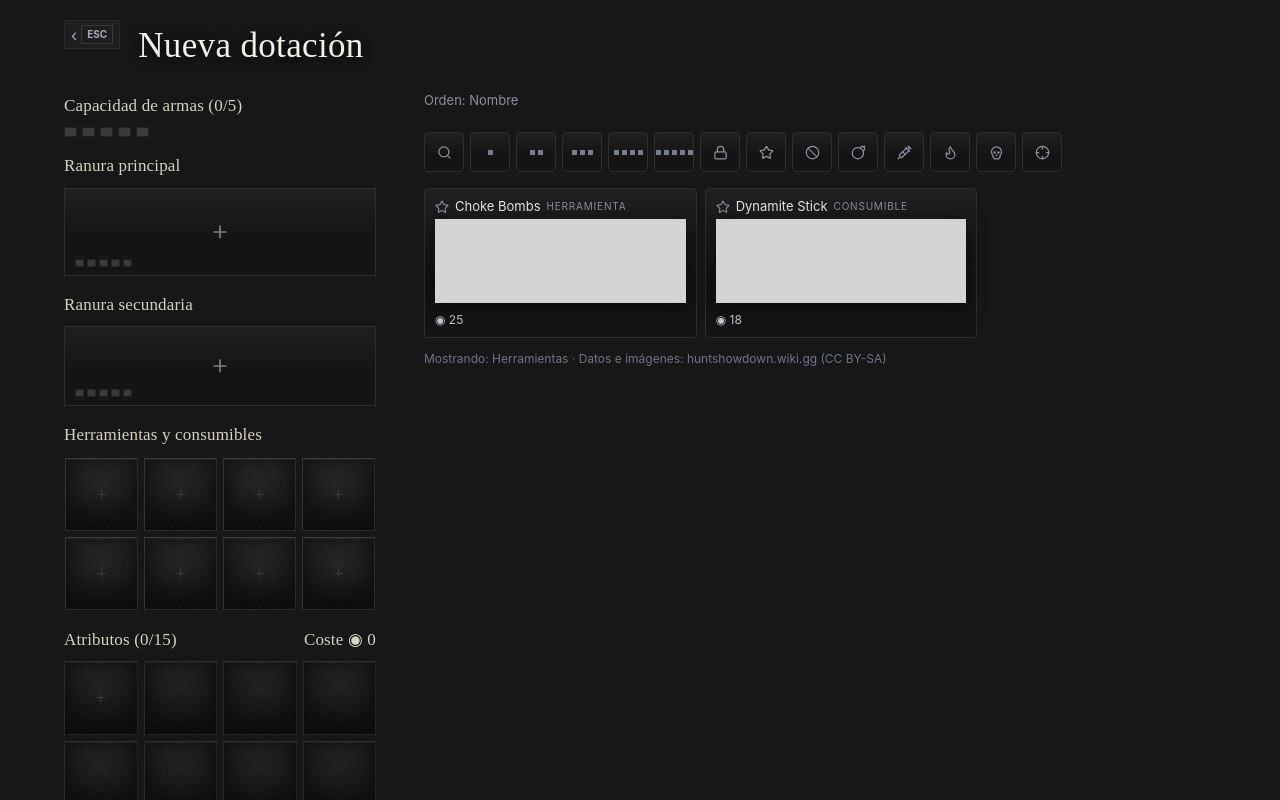
Test: DotacionEditor con herramientas › asigna el item al slot herramienta elegido y suma el coste
expect the text "Dynamite Stick" is shown: met, box [736,197,828,216]
Click the button named "Herramienta 1" at (102, 494), box [65,458,138,530]
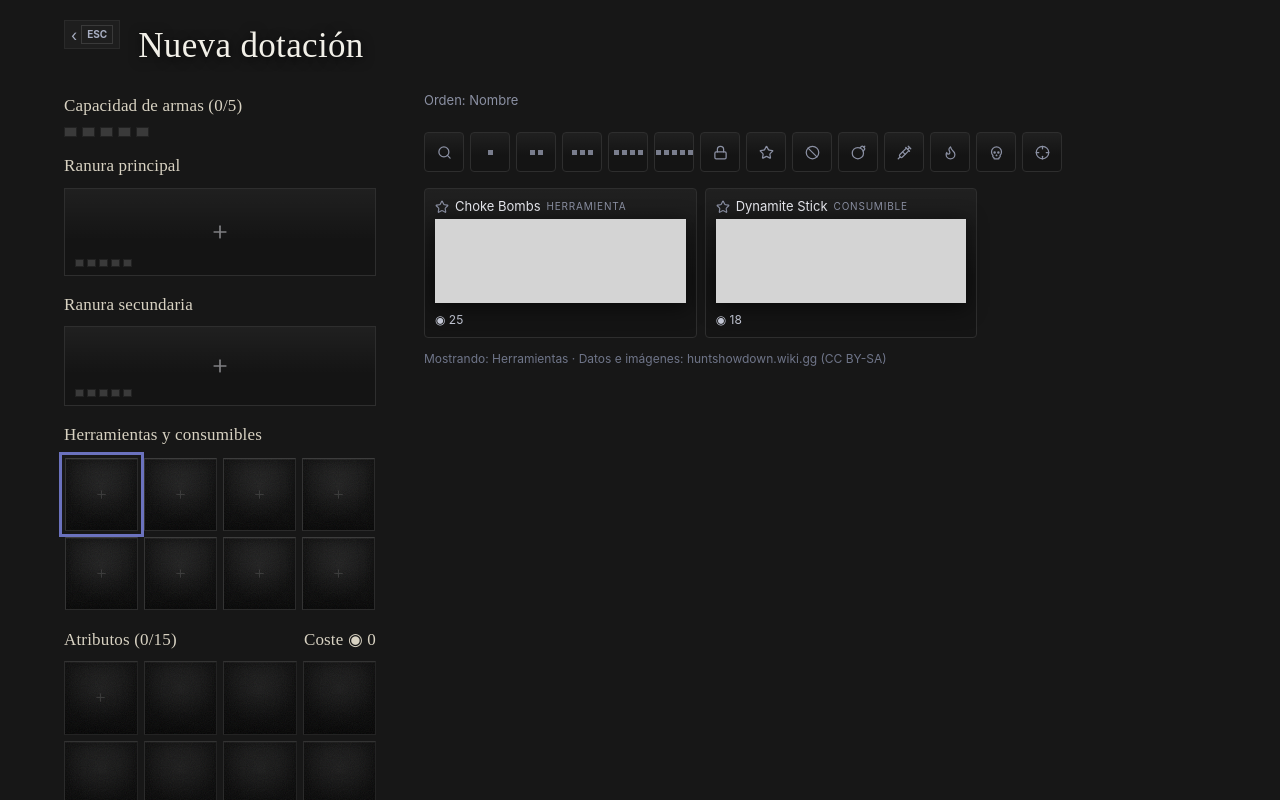
Click the button with aria-label "dynamite stick, ◉ 18" at (841, 263), box [705,188,977,338]
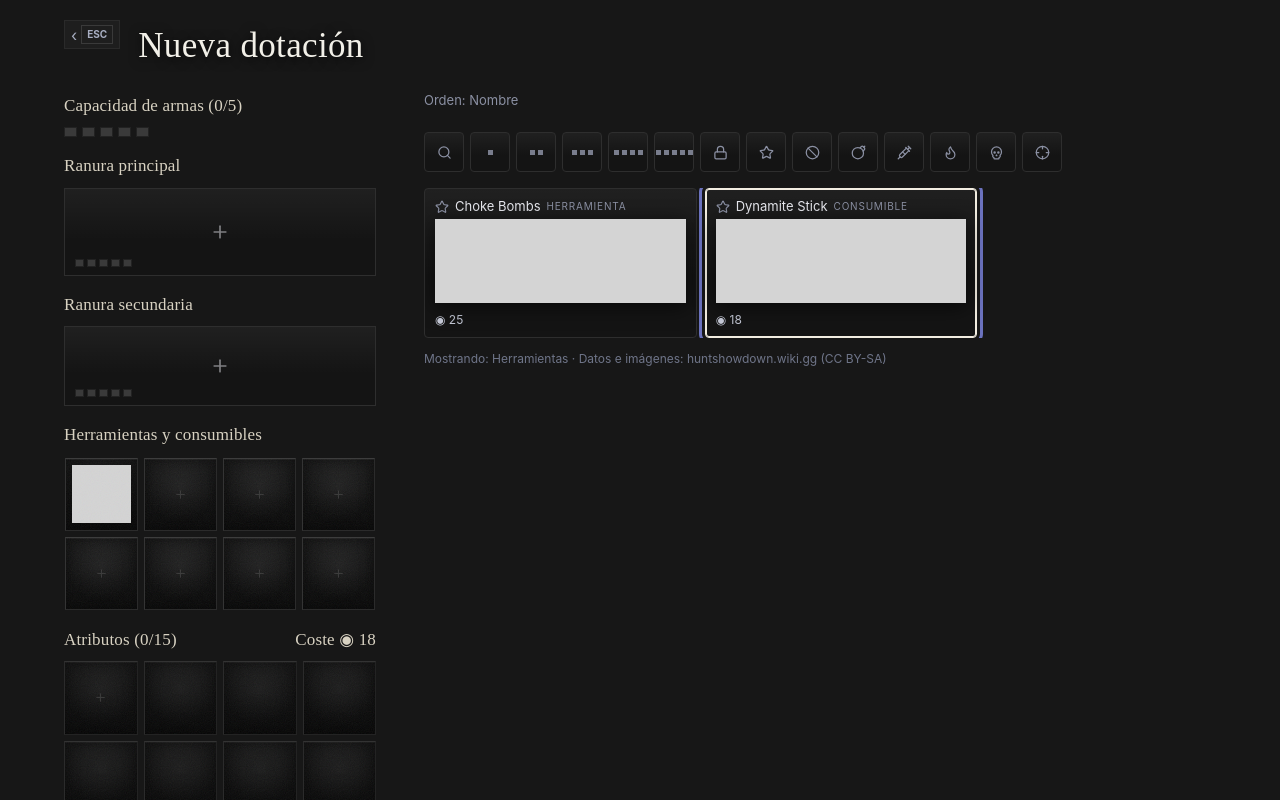
expect the text "Coste ◉ 18" is shown: met, box [295,626,376,652]
